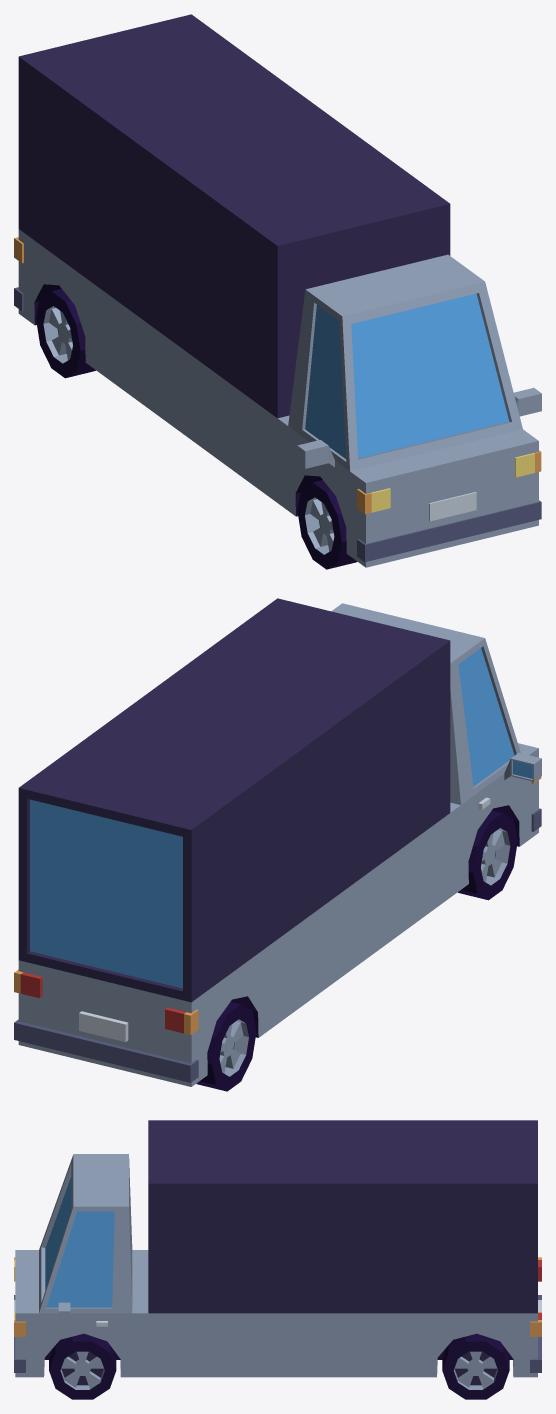
The model's file is Truck.fbx.
3 renders of one model, top to bottom at view 1: azimuth 30°, elevation 25°; view 2: azimuth 150°, elevation 25°; view 3: azimuth 270°, elevation 25°, orthographic. The views are drawn at different scales.
Parts seen in each view (by area): view 1: Cube.009; view 2: Cube.009; view 3: Cube.009.
Boxes of the visible parts, bbox=[...] form: Cube.009: bbox=[14, 14, 541, 569]; Cube.009: bbox=[14, 598, 541, 1091]; Cube.009: bbox=[14, 1120, 541, 1399].
Size of the model in its own units: 2.74 by 7.03 by 3.16.
1 material, 1 textured.
